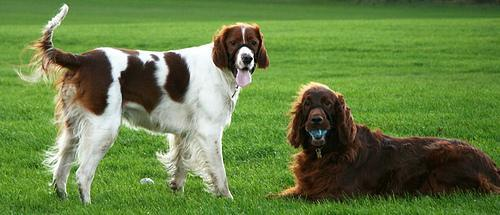Irish_setter: (273, 81, 499, 203)
